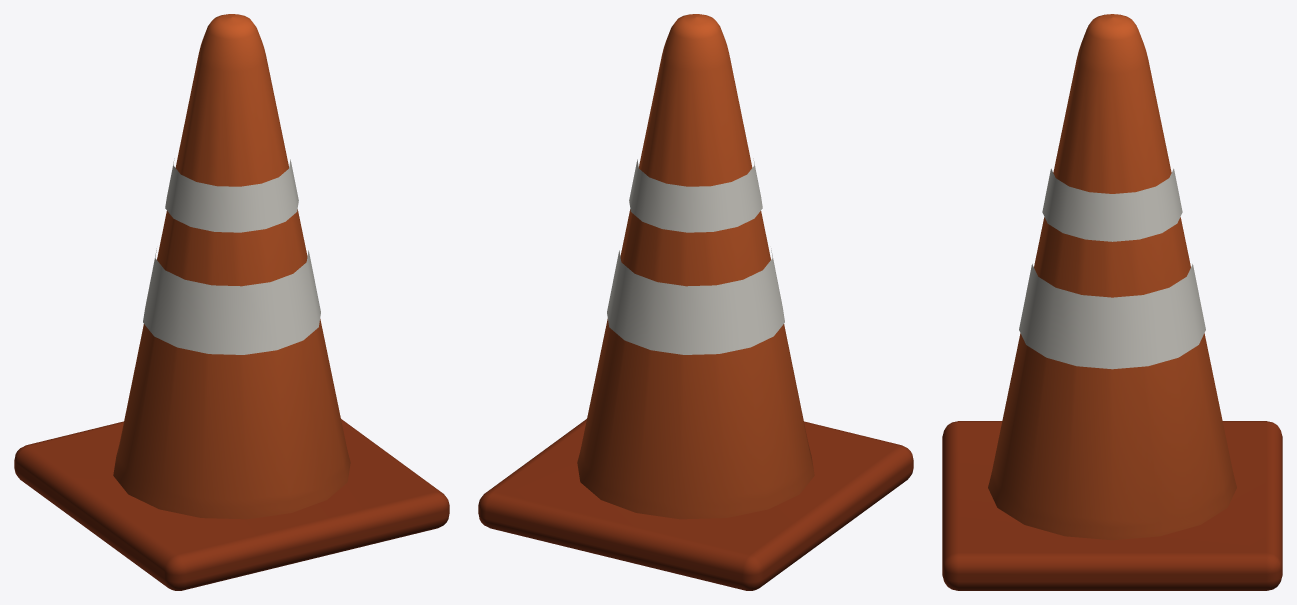
Rendered from yard_cone__201.glb.
3 views of the same model, side by side, from view 1: azimuth 30°, elevation 25°; view 2: azimuth 150°, elevation 25°; view 3: azimuth 270°, elevation 25° (orthographic). The views are drawn at different scales.
Visible parts, largest first — view 1: merged_toon_ffffff; view 2: merged_toon_ffffff; view 3: merged_toon_ffffff.
Part boxes in pixels (bbox=[...]): merged_toon_ffffff: bbox=[14, 14, 449, 590]; merged_toon_ffffff: bbox=[478, 14, 913, 590]; merged_toon_ffffff: bbox=[942, 14, 1282, 590].
Bounding box in the file's own units: 0.42 × 0.69 × 0.42.
